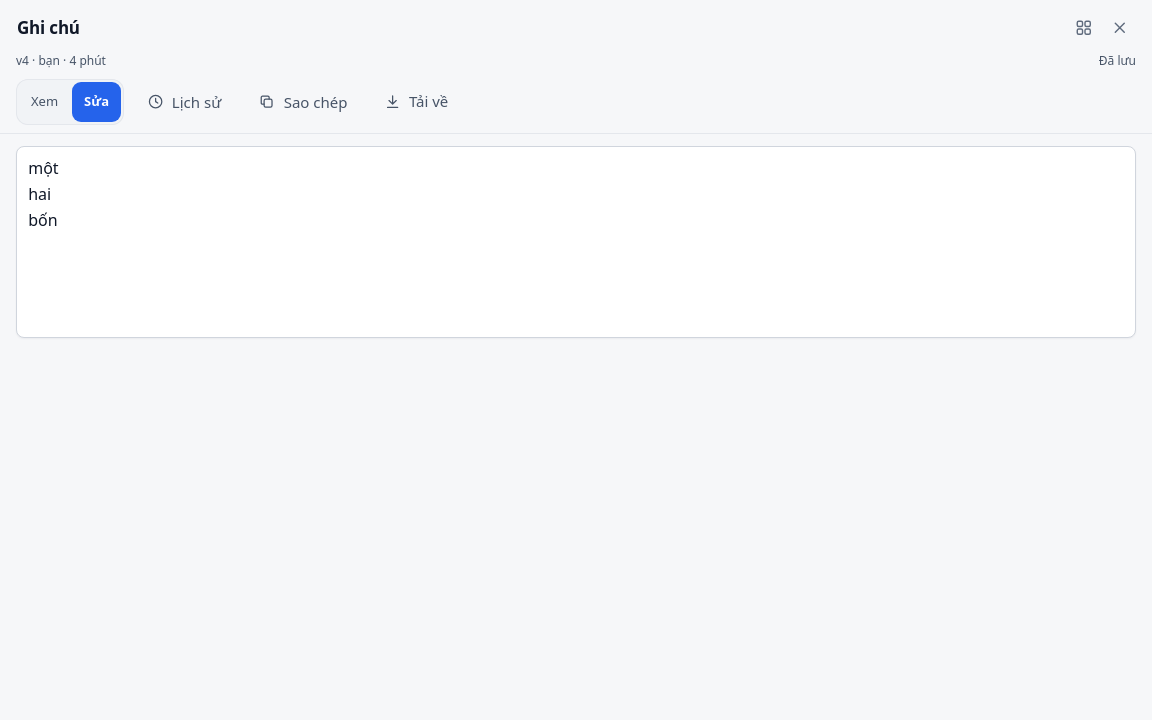
restoring a version › shows the largest canvases when the server has no room for the restore
Step 1. Click the button "Lịch sử" → (184, 102), box x1=132 y1=84 x2=236 y2=120
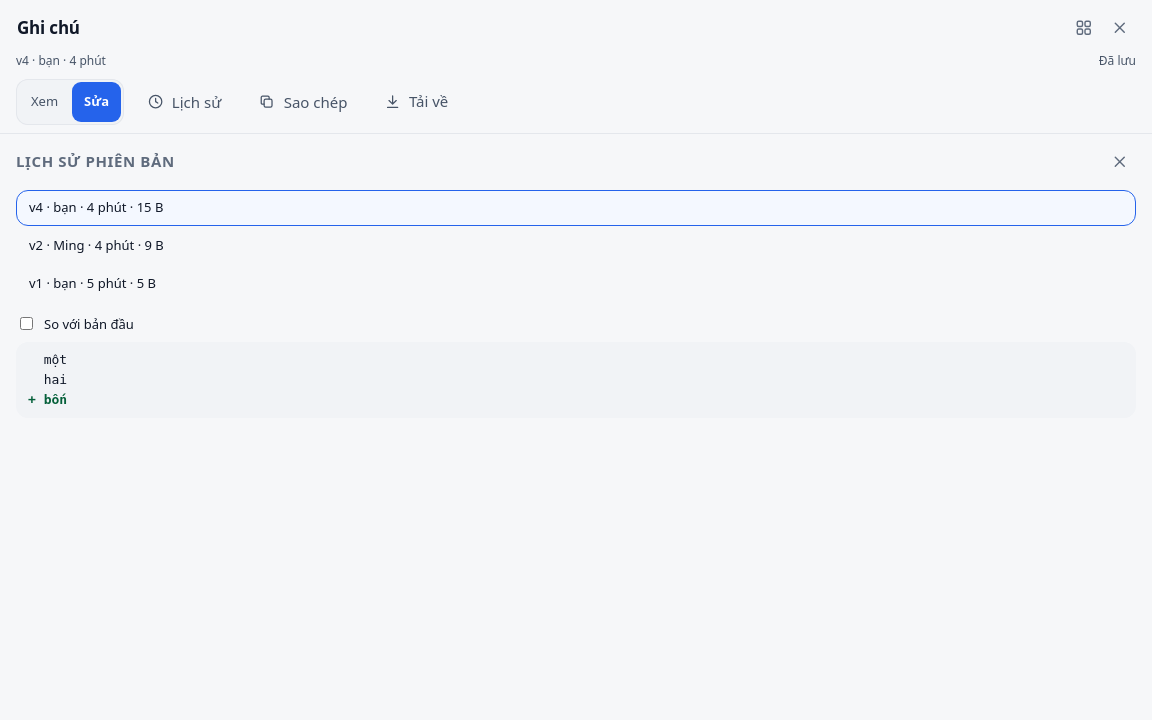
Step 2. Click the button "v1 · bạn · 5 phút · 5 B" → (92, 283), box x1=16 y1=266 x2=1136 y2=302
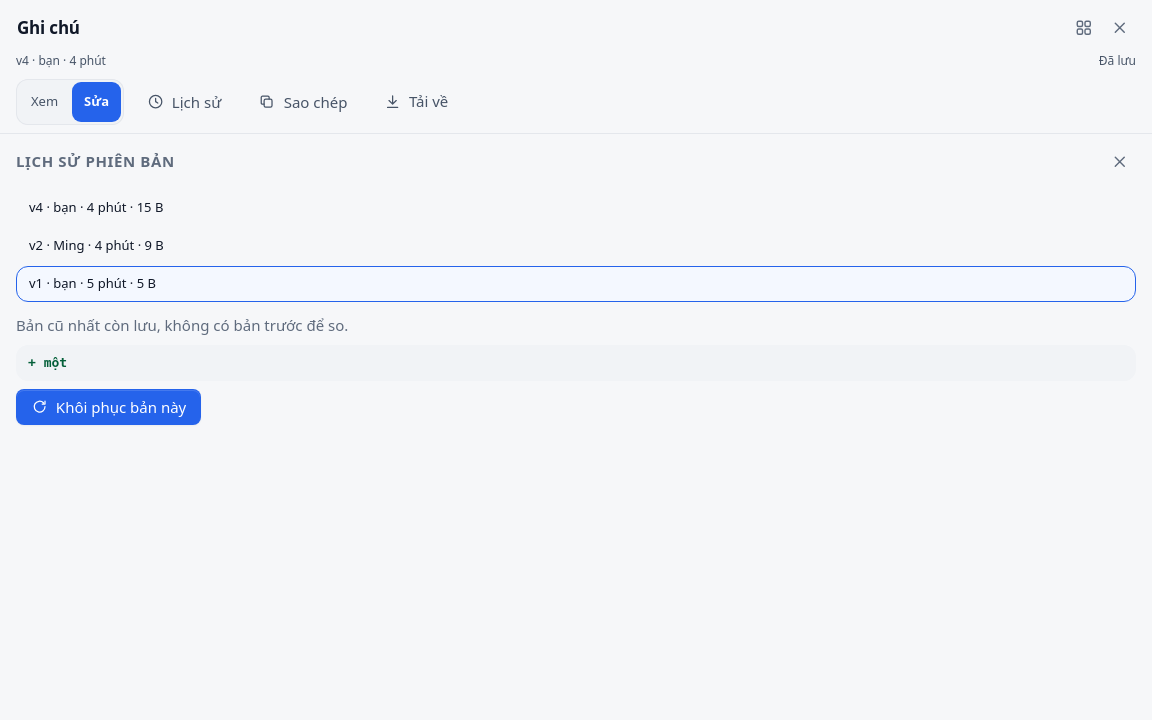
Step 3. Click the button "Khôi phục bản này" → (108, 407), box x1=16 y1=389 x2=201 y2=425
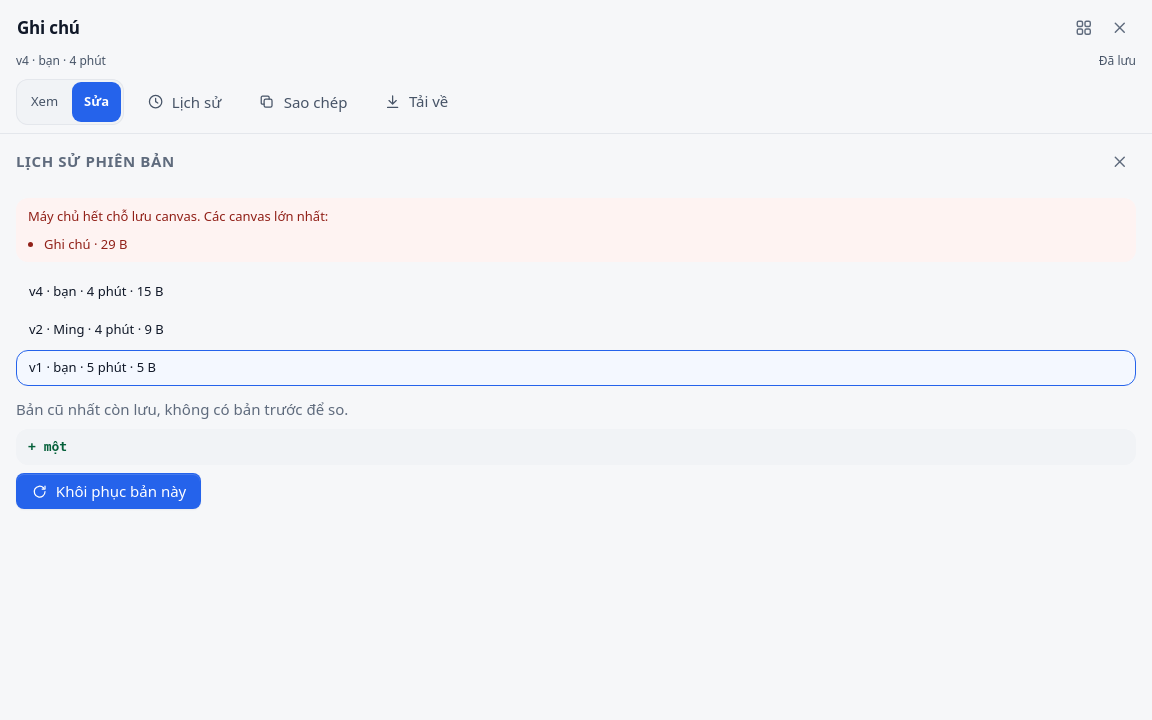
Check: the list items read "Ghi chú · 29 B", in this order, box x1=44 y1=235 x2=128 y2=253
